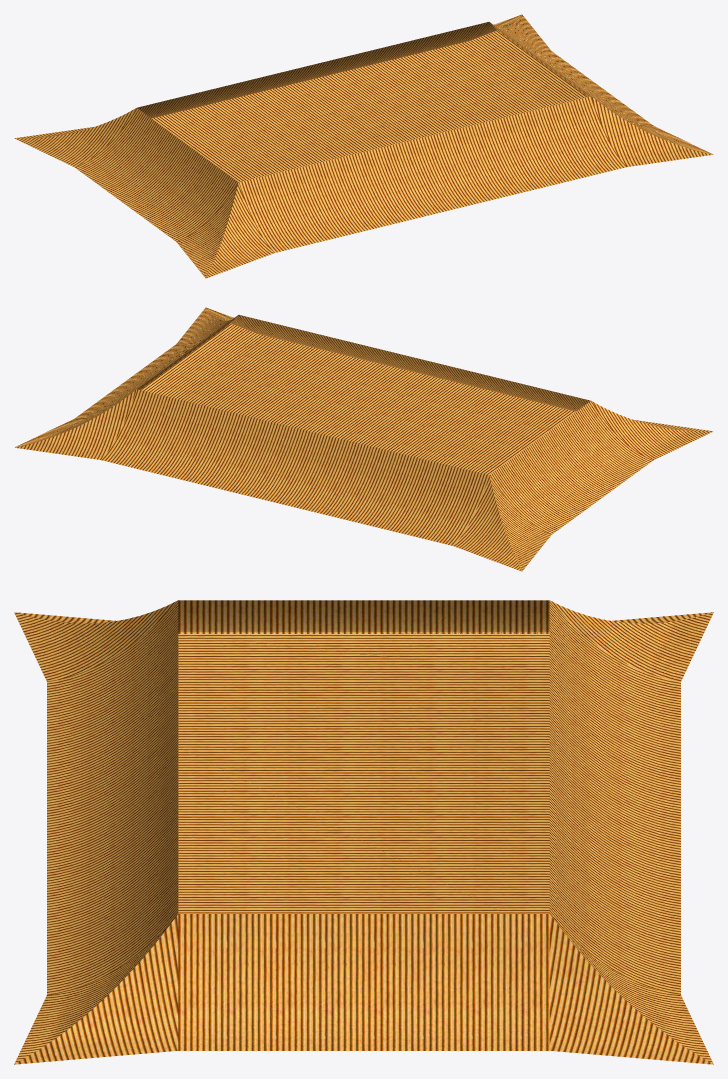
The model's file is roof_lower.dae.
3 renders of one model, top to bottom at view 1: azimuth 30°, elevation 25°; view 2: azimuth 150°, elevation 25°; view 3: azimuth 270°, elevation 25°, orthographic. The views are drawn at different scales.
Parts seen in each view (by area): view 1: roof01_2 (×2); view 2: roof01_2 (×2); view 3: roof01_2 (×3).
Part boxes in pixels (box(x1,y1,x2,y2)): roof01_2 (×2): box(14, 14, 713, 278); roof01_2 (×2): box(14, 307, 713, 571); roof01_2 (×3): box(14, 600, 713, 1064).
Size of the model in its own units: 1909 by 1248 by 166.
Materials: 2 (2 with a texture image).
